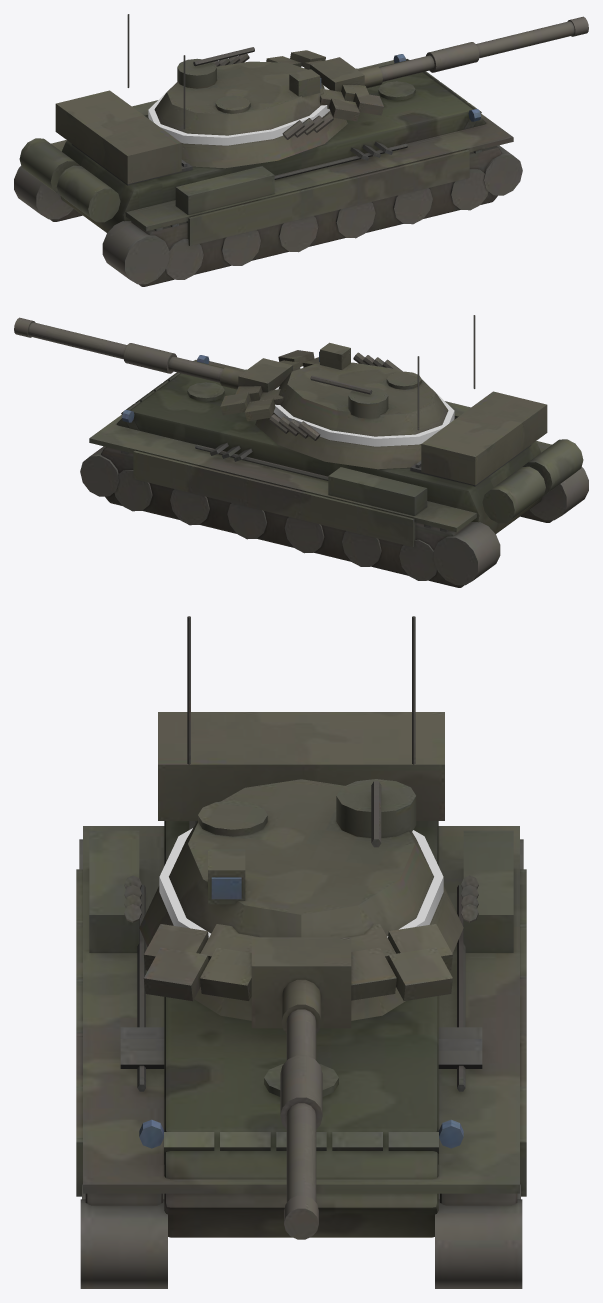
3 renders of one model, top to bottom at view 1: azimuth 30°, elevation 25°; view 2: azimuth 150°, elevation 25°; view 3: azimuth 270°, elevation 25°, orthographic. The views are drawn at different scales.
Parts seen in each view (by area): view 1: g_t72_hull, g_t72_turret, g_t72_gun; view 2: g_t72_hull, g_t72_turret, g_t72_gun; view 3: g_t72_hull, g_t72_turret, g_t72_gun.
Boxes of the visible parts, x1,y1,x2,y2 form: g_t72_hull: [14, 54, 522, 286]; g_t72_turret: [55, 14, 383, 184]; g_t72_gun: [358, 16, 588, 88]; g_t72_hull: [80, 355, 588, 587]; g_t72_turret: [220, 315, 547, 485]; g_t72_gun: [14, 317, 244, 389]; g_t72_hull: [76, 821, 526, 1288]; g_t72_turret: [124, 616, 478, 1028]; g_t72_gun: [280, 979, 322, 1239].
Bounding box in the file's own units: 9.82 × 3.51 × 3.61.
4 materials, 3 textured.
